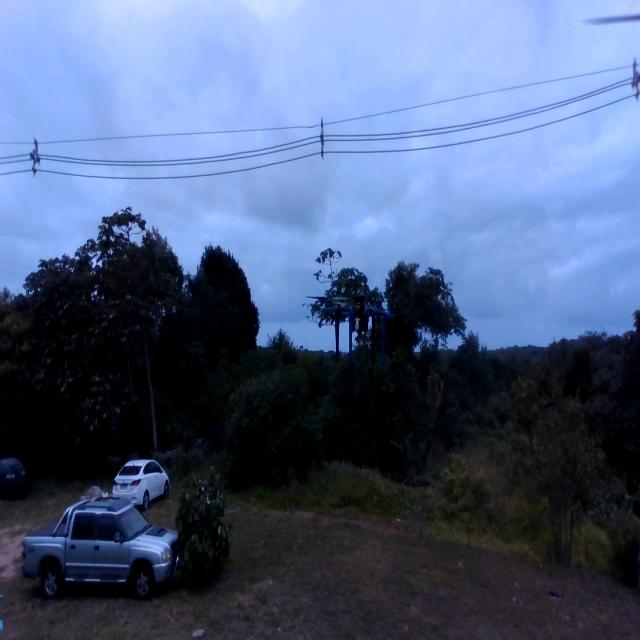-uav-: (306, 278, 406, 371)
